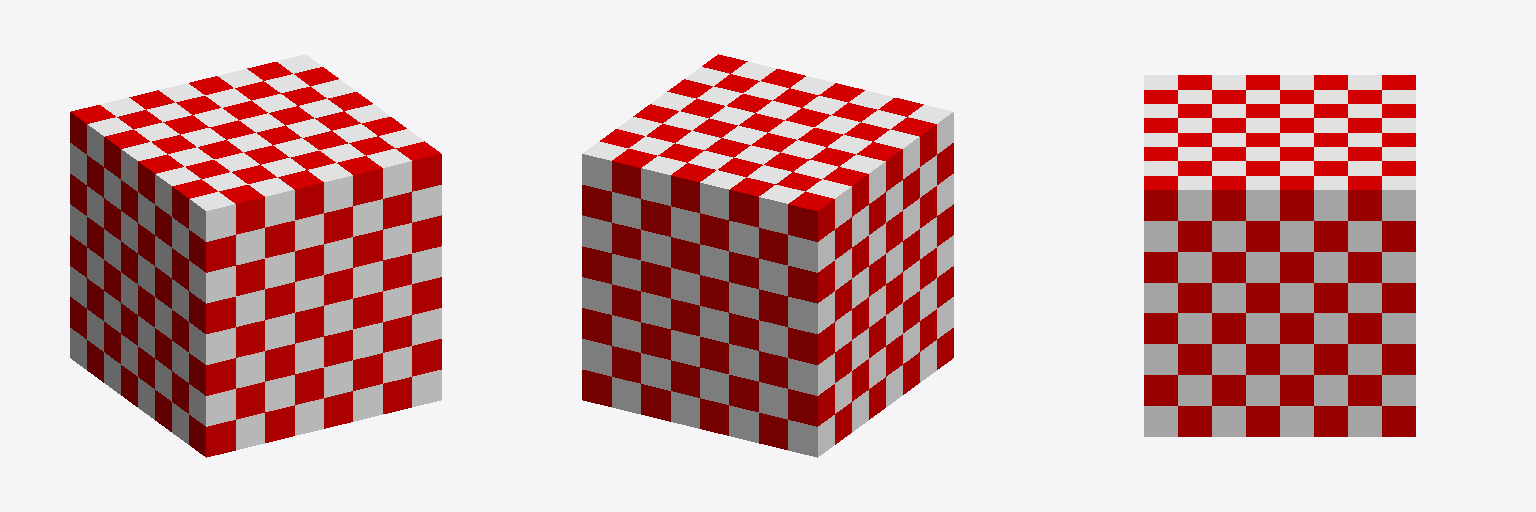
The picture shows the model from 3 angles: view 1: azimuth 30°, elevation 25°; view 2: azimuth 150°, elevation 25°; view 3: azimuth 270°, elevation 25°; orthographic projection.
Size of the model in its own units: 8 by 8 by 8.
Materials: 1 (1 with a texture image).